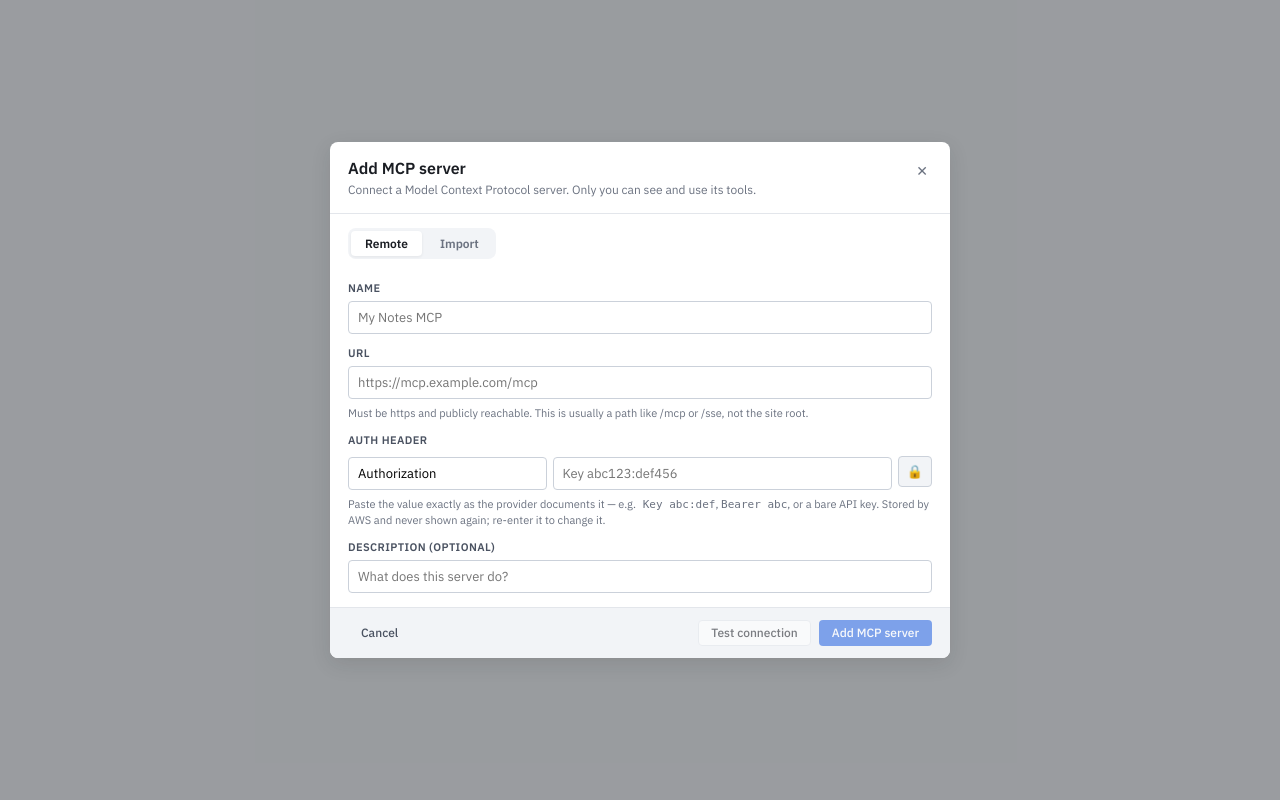
Scenario: probe result › shows the real failure message
Step 1. Type "https://m.example.com/" into the field with placeholder "https://mcp.example.com/mcp" → (640, 382), box left=348, top=366, right=932, bottom=399
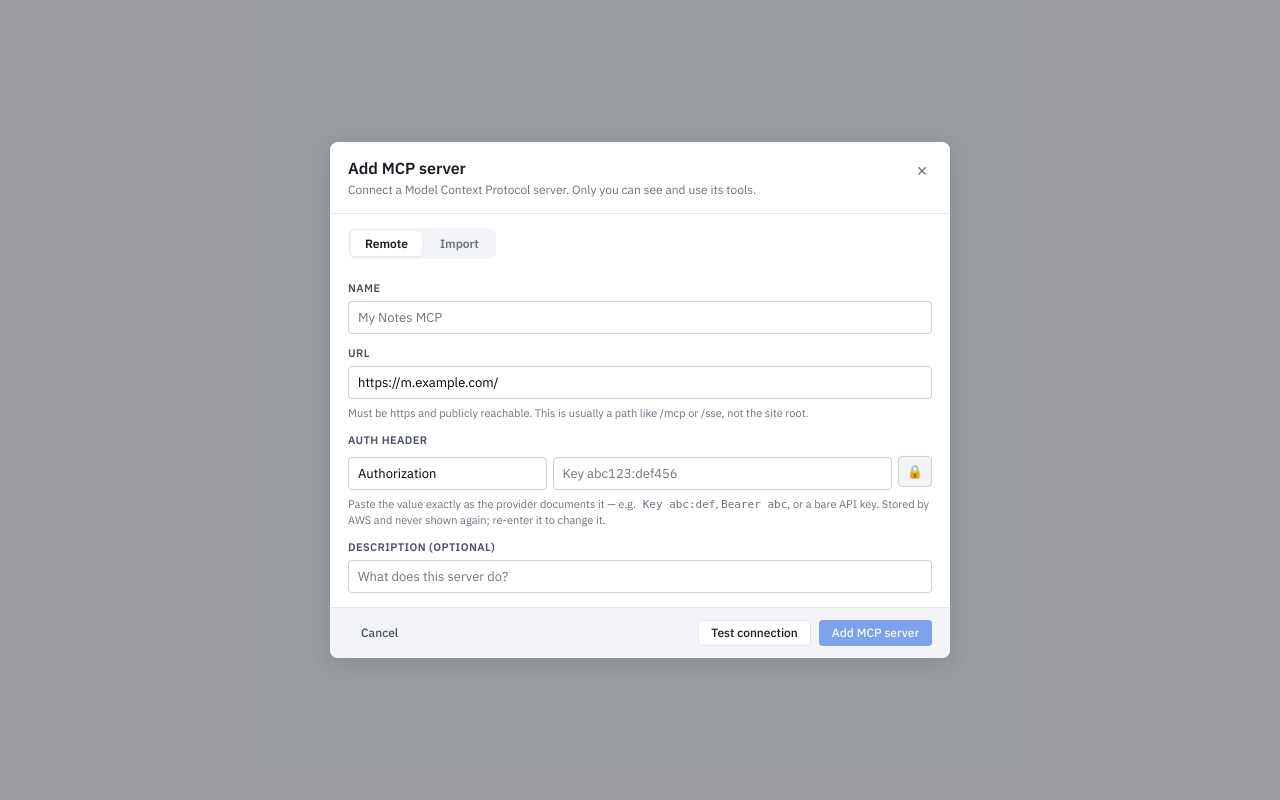
Step 2. Click the button "Test connection" → (755, 633), box left=698, top=620, right=811, bottom=646
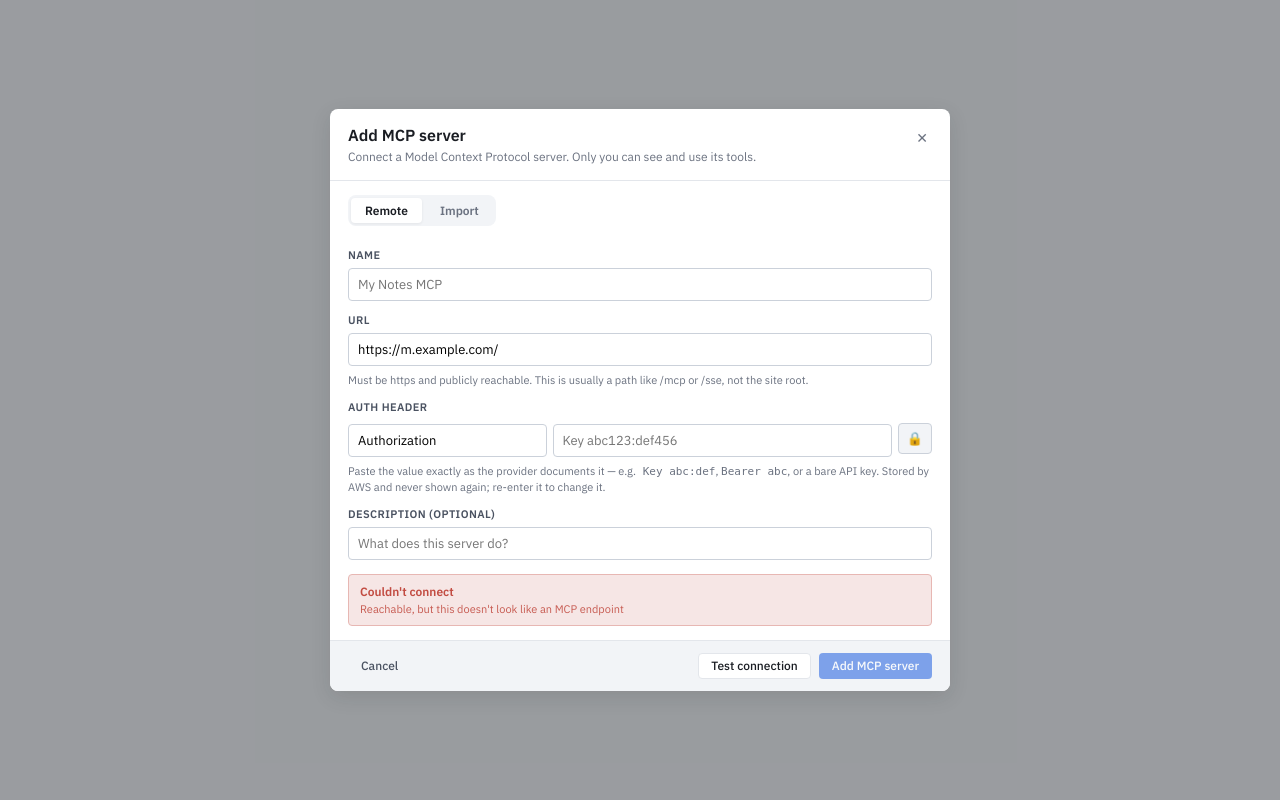
expect the text "Reachable, but this doesn't look like an MCP endpoint" is shown: met, box left=360, top=602, right=624, bottom=616
